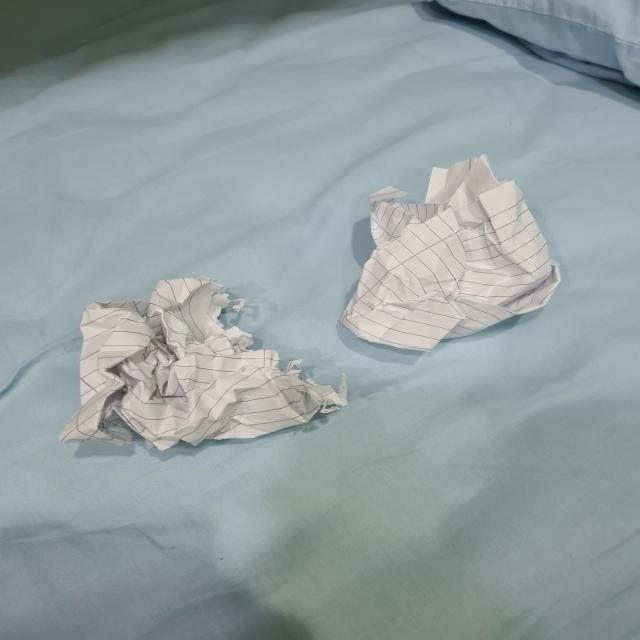trash: (72, 280, 304, 452), (350, 159, 562, 347)
